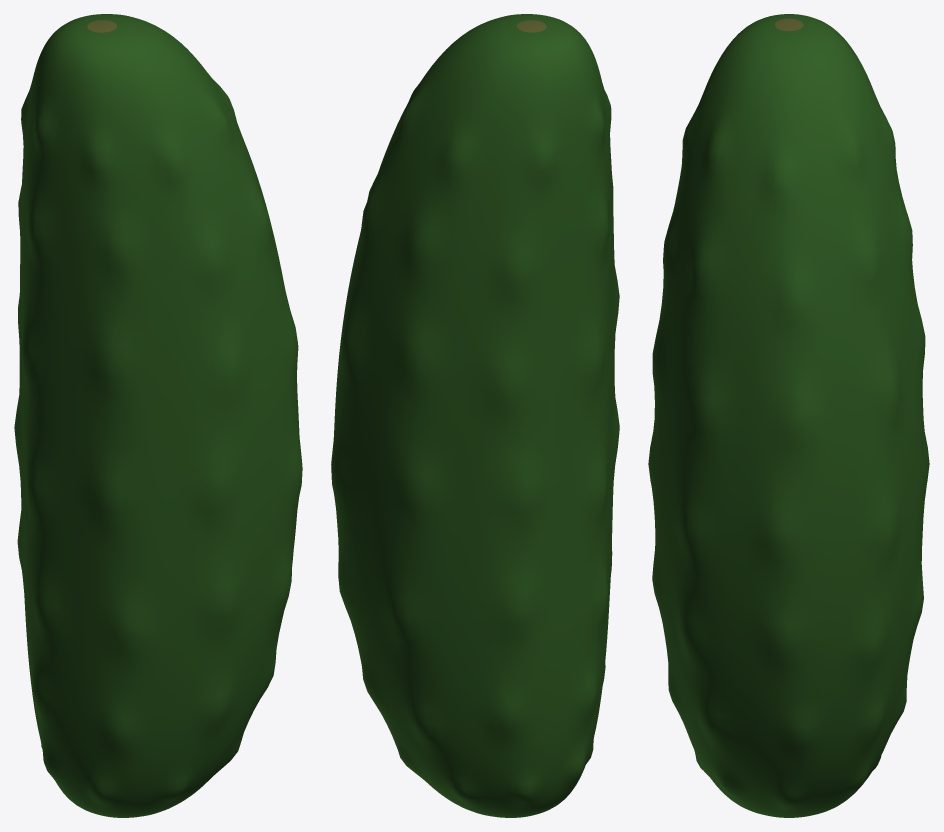
Rendered from A-NEW-20261027-CUCUMBER-001_LOD0_R1.fbx.
3 views of the same model, side by side, from view 1: azimuth 30°, elevation 25°; view 2: azimuth 150°, elevation 25°; view 3: azimuth 270°, elevation 25° (orthographic). The views are drawn at different scales.
Visible parts, largest first — view 1: original curved cucumber skin bumps and rounded ends; view 2: original curved cucumber skin bumps and rounded ends; view 3: original curved cucumber skin bumps and rounded ends.
Part boxes in pixels (x1,y1,x2,y2): original curved cucumber skin bumps and rounded ends: (14,14,302,817); original curved cucumber skin bumps and rounded ends: (331,14,619,817); original curved cucumber skin bumps and rounded ends: (648,14,929,817).
Size of the model in its own units: 4.99 by 14.42 by 4.78.
